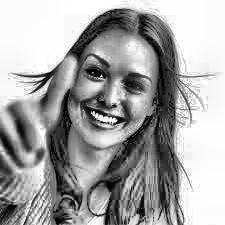Happy: (64, 16, 175, 140)
